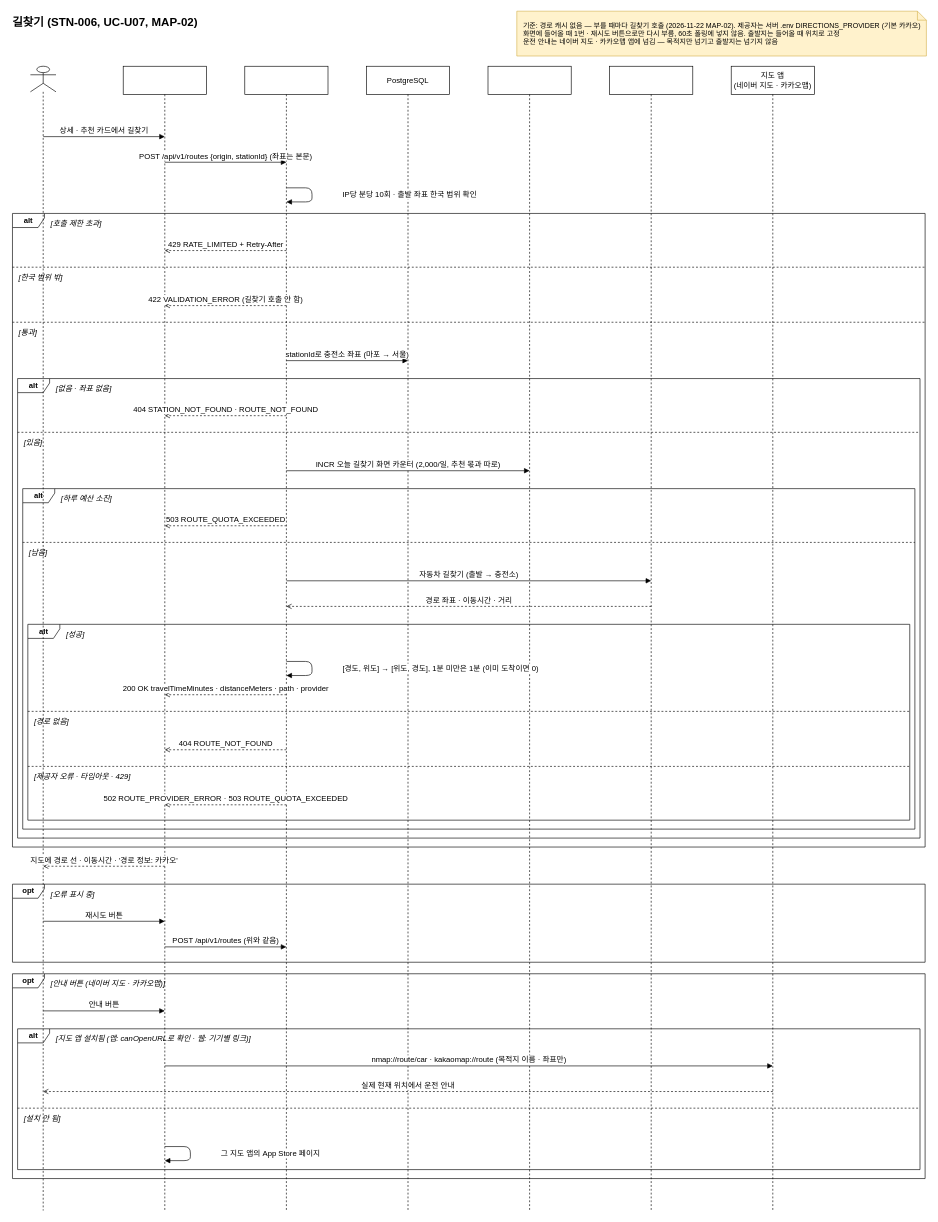
The diagram is 938 pixels wide and 1222 high, and some of its shapes have lost their labels. The box of each missing label's shape, as (x1, y1, x2, y2) in pixels:
API 서버 (FastAPI): (244, 66, 328, 1211)
Redis: (487, 66, 571, 1211)
길찾기 API (카카오 · 네이버): (609, 66, 693, 1211)
사용자: (30, 66, 56, 1211)
사용자 앱 · 웹 (RN · React, core 공용): (123, 66, 206, 1211)
